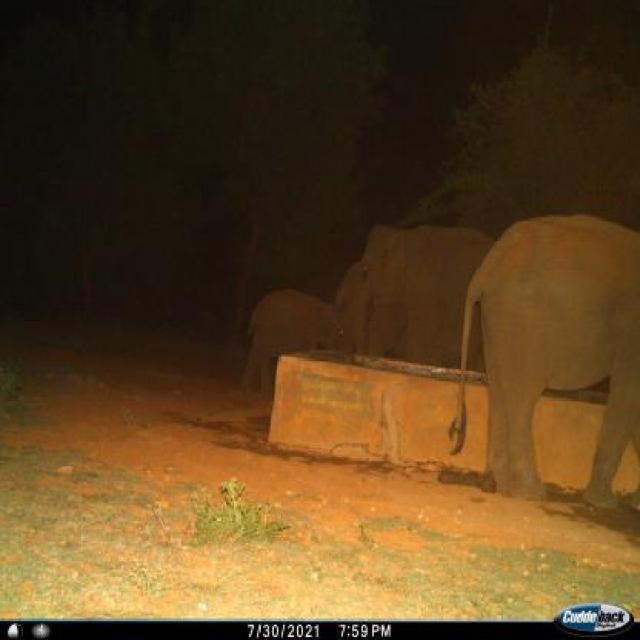Elephant: (466, 210, 640, 504), (359, 182, 481, 487), (215, 271, 356, 437)
